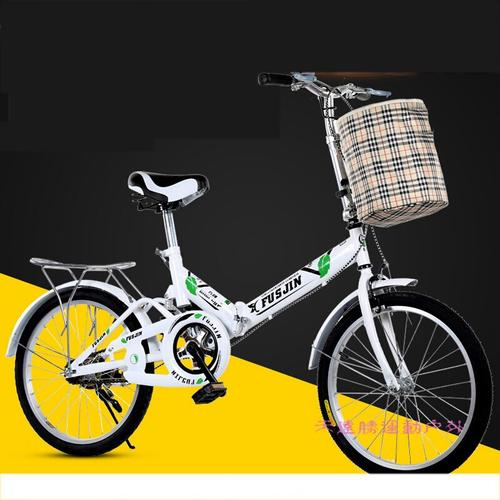单车: (6, 59, 500, 474)
